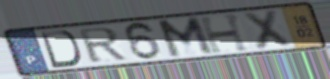6: (123, 20, 166, 63)
D: (38, 29, 83, 69)
H: (197, 12, 253, 56)
M: (155, 15, 217, 60)
R: (76, 26, 130, 65)
X: (240, 8, 294, 51)
